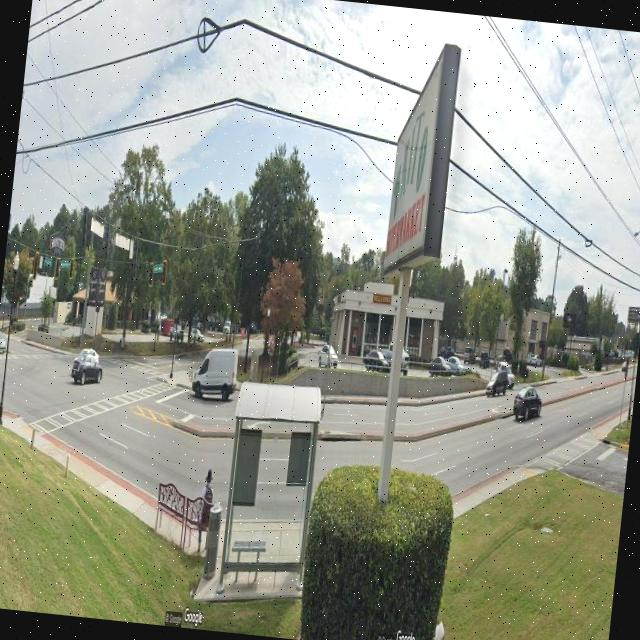seating: (152, 479, 188, 550), (226, 534, 268, 586), (181, 493, 215, 551)
shelter: (216, 374, 324, 598)
trash_can: (201, 500, 223, 581)
